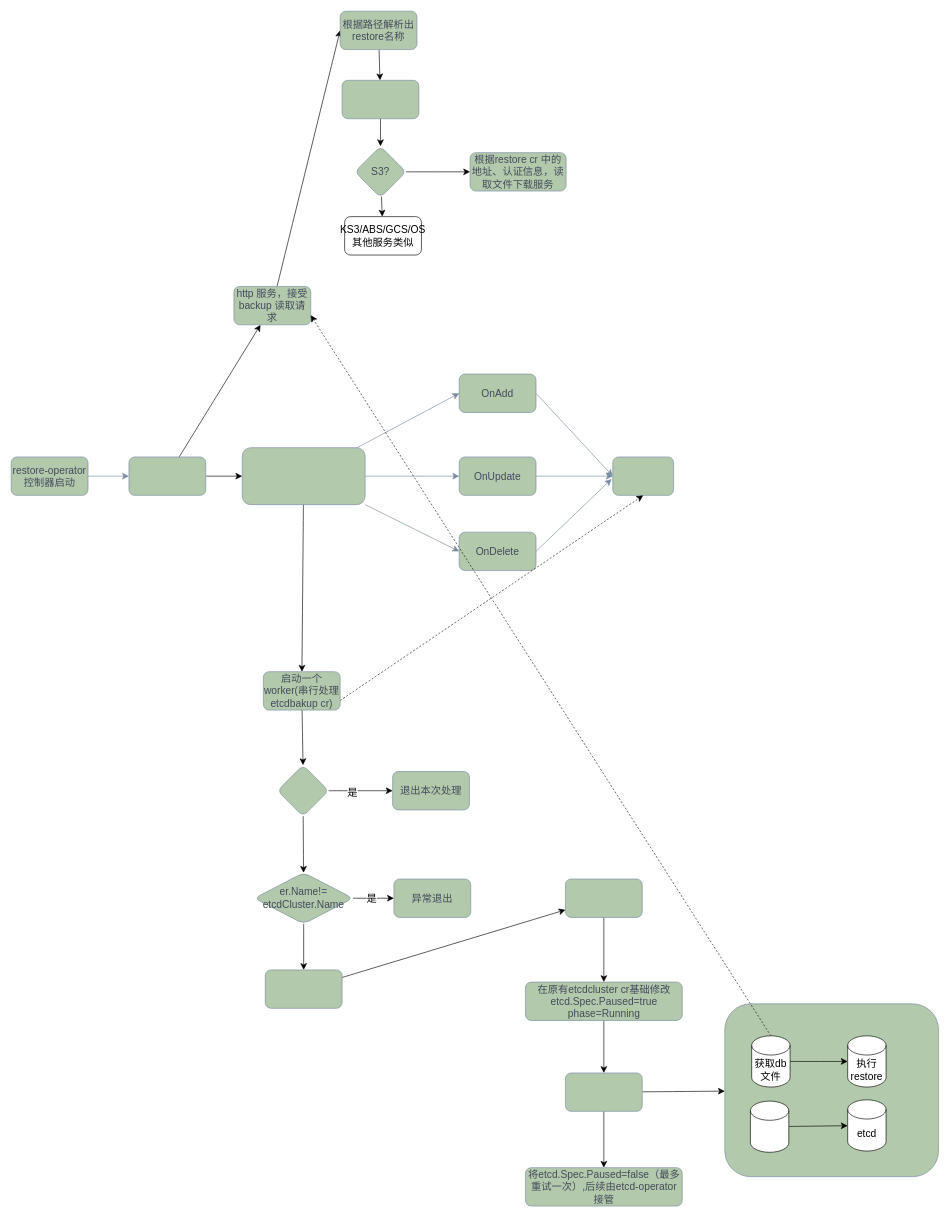
This 950x1217 diagram has some shape labels left out. The shapes that lost their labels are listed below. From the top down, each one's centre as x and y in pixels, then its label:
pixel 380 99: 查询restoreCr
pixel 167 475: 创建crd,如果创建失败隔立即重试
pixel 303 476: 启动协调器，默认处理所有 etcdrestore cr
pixel 643 475: 入队
pixel 303 790: 处理成功或失败
pixel 603 897: 删除原来都etcdcluster
pixel 303 988: 恢复种子节点
pixel 603 1091: 创建种子member
pixel 769 1126: check-dns
